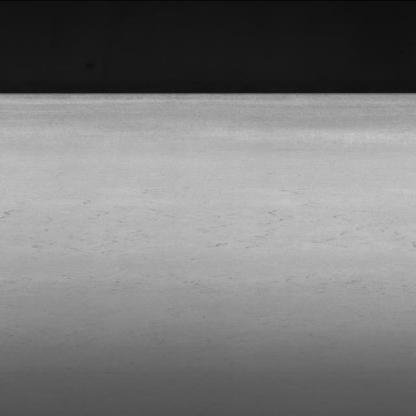silk_spot: (2, 194, 406, 275)
